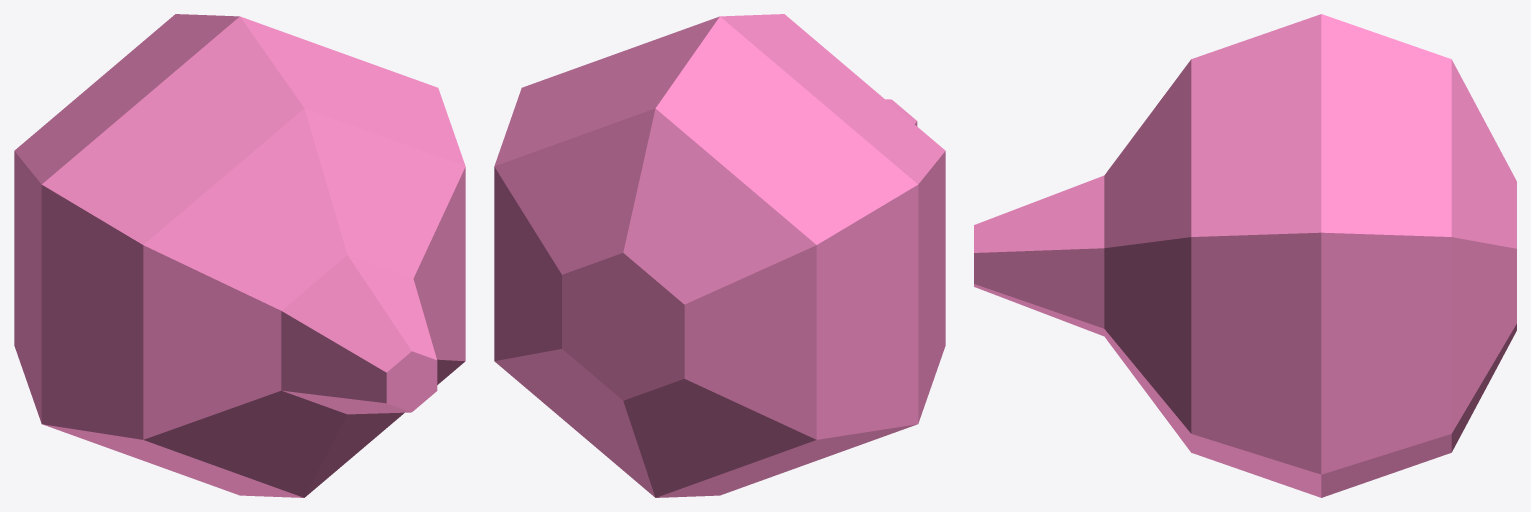
The model's file is peeledRedOnion.obj.
3 views of the same model, side by side, from view 1: azimuth 30°, elevation 25°; view 2: azimuth 150°, elevation 25°; view 3: azimuth 270°, elevation 25° (orthographic).
Parts seen in each view (by area): view 1: onion.002; view 2: onion.002; view 3: onion.002.
Boxes of the visible parts, left/top/right/bottom form: onion.002: left=14, top=14, right=465, bottom=497; onion.002: left=494, top=14, right=945, bottom=497; onion.002: left=974, top=14, right=1516, bottom=497.
Size of the model in its own units: 0.213 by 0.246 by 0.25.
